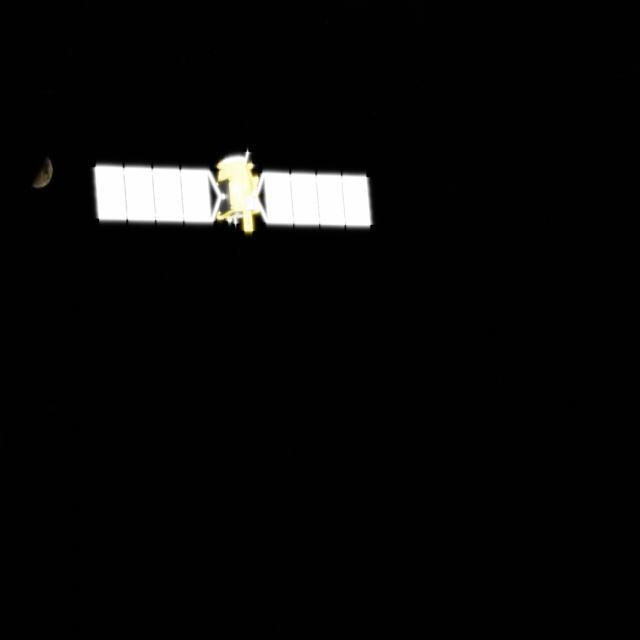satellite: (67, 150, 383, 237)
